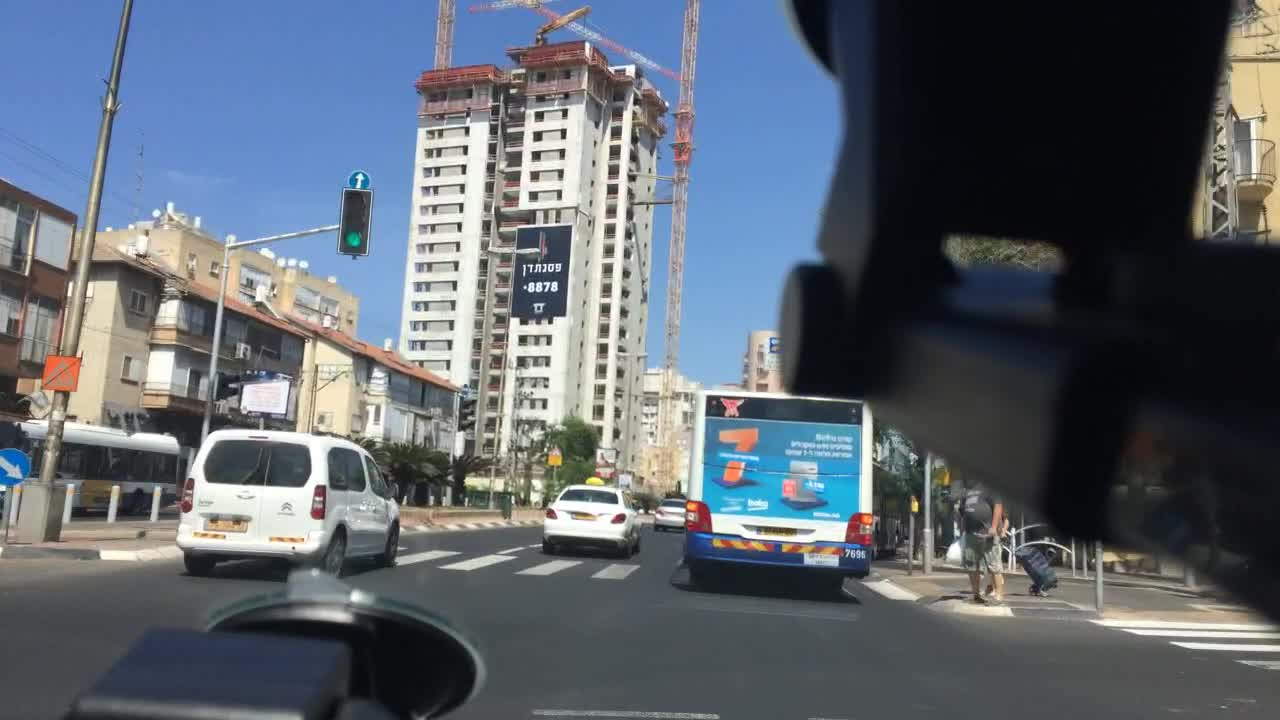bus: (678, 386, 909, 590), (0, 416, 181, 519)
car: (174, 425, 400, 579), (542, 475, 640, 556), (655, 501, 690, 529)
person: (957, 478, 1006, 607), (1014, 524, 1063, 601)
traffic light: (338, 188, 370, 255), (212, 373, 243, 401)
traffic sign: (40, 354, 79, 392), (0, 446, 29, 487), (548, 445, 562, 468), (351, 170, 369, 185)
